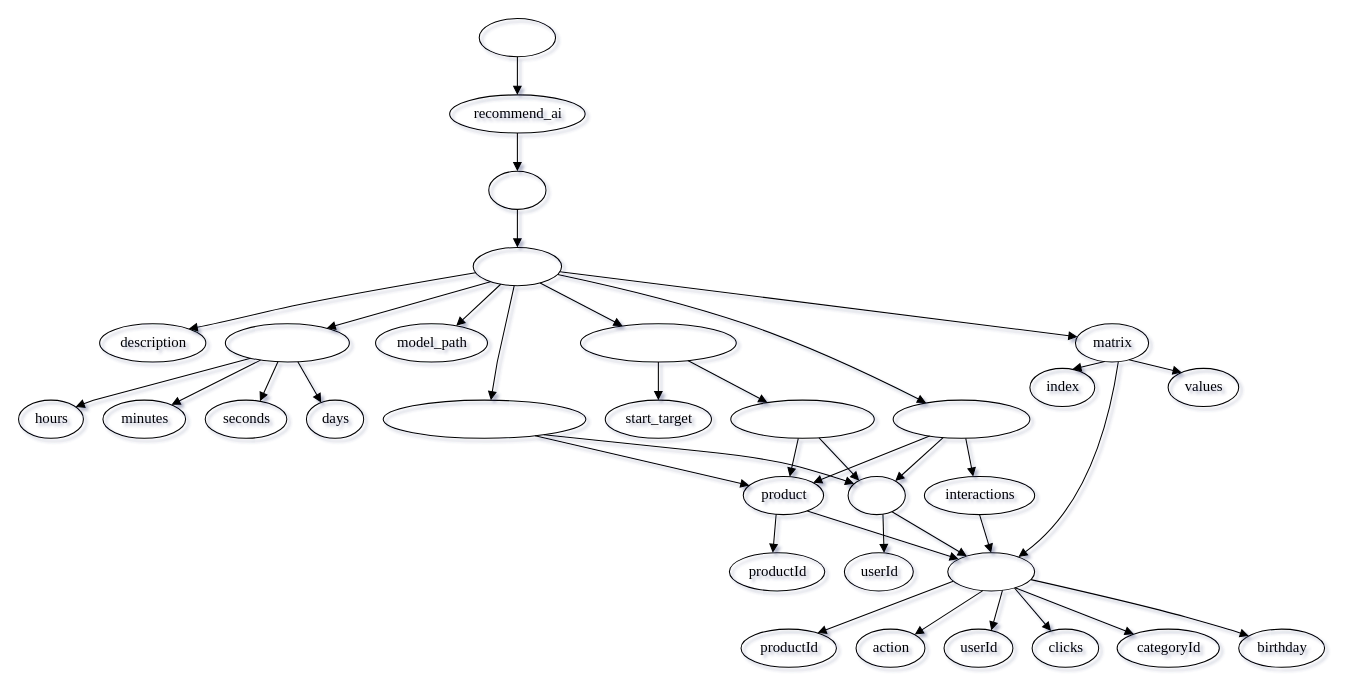
This 1350x692 diagram has some shape labels left out. The centre of each missing label's shape, as x and y in pixels:
"columns" belongs at point 991,571.
"learning_tables" belongs at point 961,418.
"merge_columns" belongs at point 802,418.
"model_a" belongs at point 517,266.
"replace_columns_tables" belongs at point 484,418.
"rules_merge_data" belongs at point 657,342.
"svd" belongs at point 517,189.
"system" belongs at point 517,37.
"training_time" belongs at point 286,342.
"user" belongs at point 876,495.
